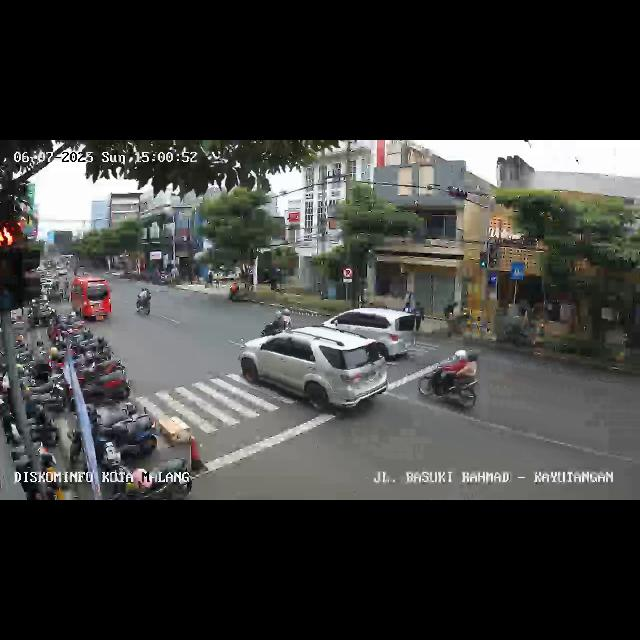car: (240, 330, 388, 424), (320, 308, 420, 362), (70, 276, 112, 324)
motorcycle: (420, 347, 482, 415), (261, 309, 291, 336), (134, 287, 154, 317)
